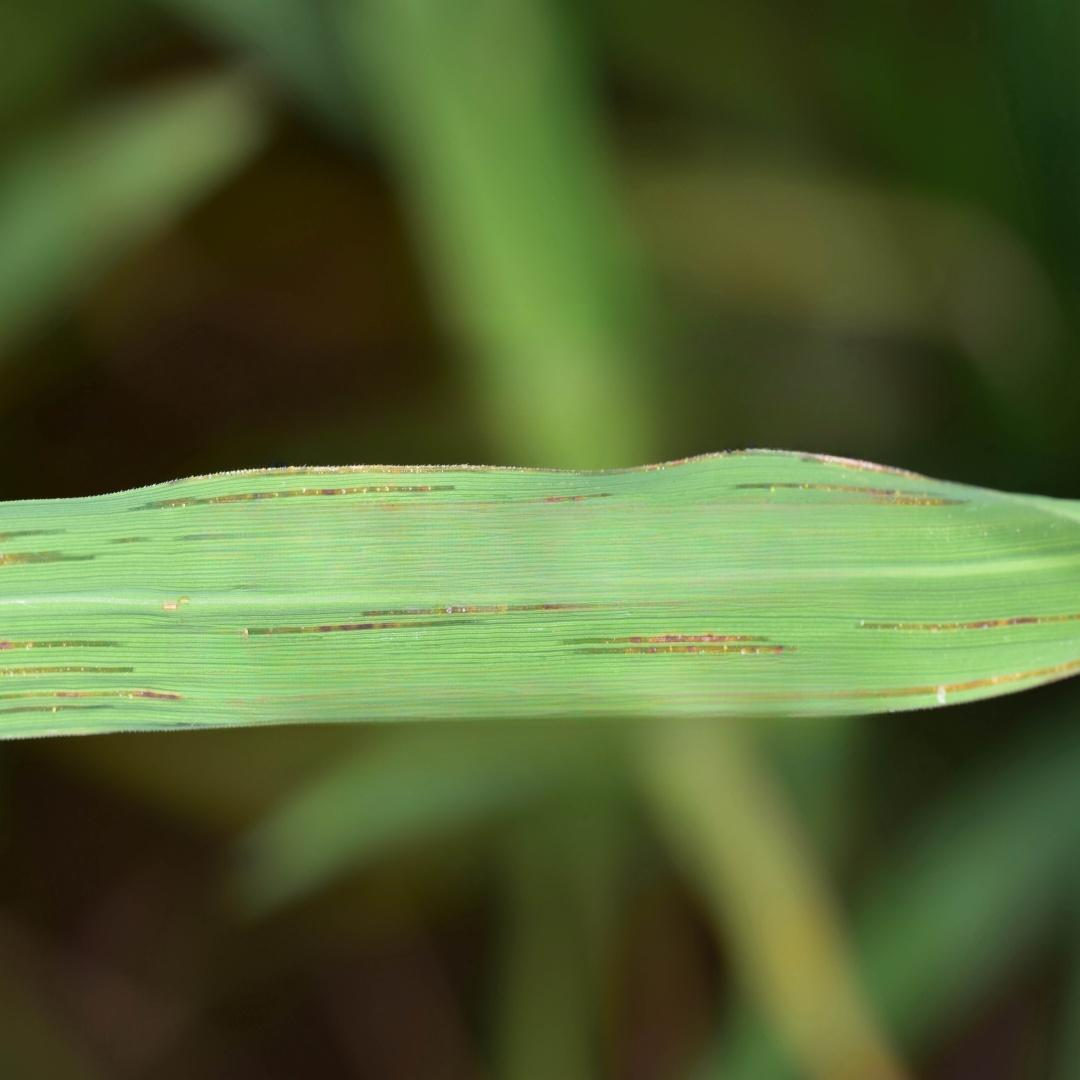BLS: (806, 658, 1079, 701), (139, 485, 453, 507), (736, 484, 958, 504), (860, 614, 1079, 631), (362, 603, 603, 616), (247, 622, 480, 635), (568, 647, 801, 656), (562, 636, 783, 645), (1, 691, 186, 701), (1, 705, 117, 716), (0, 552, 91, 566), (0, 640, 118, 650), (0, 667, 132, 675), (536, 491, 612, 504), (0, 530, 60, 541)
